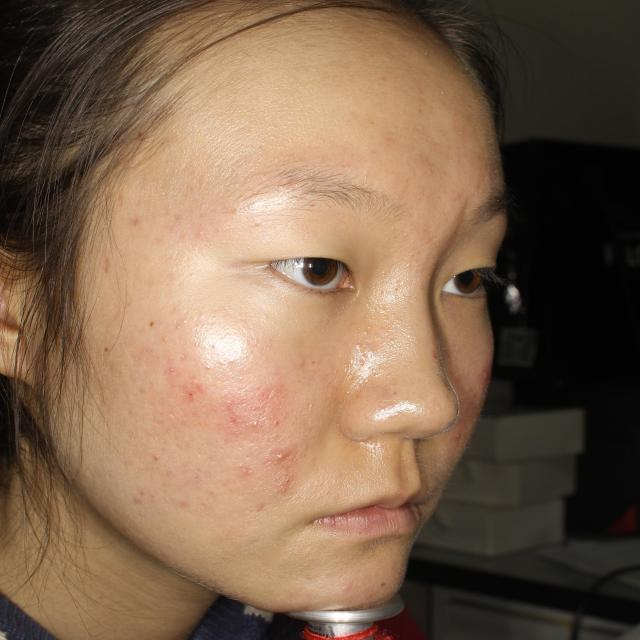acne: (224, 400, 245, 429), (276, 468, 301, 492), (177, 377, 202, 396), (251, 408, 264, 434), (255, 491, 269, 515), (272, 445, 294, 459)
